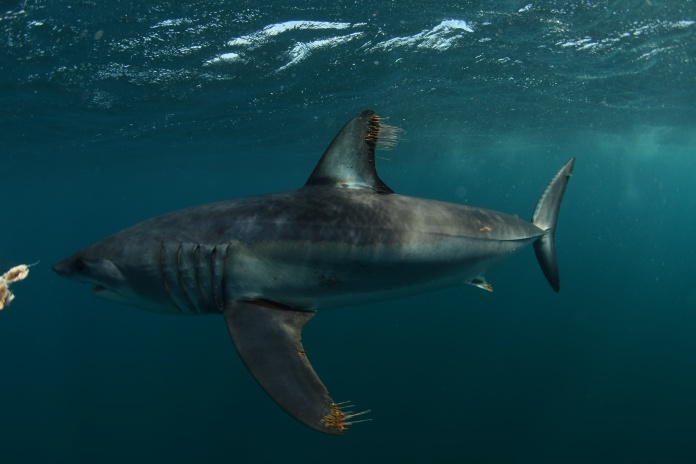Mako: (44, 105, 597, 436)
